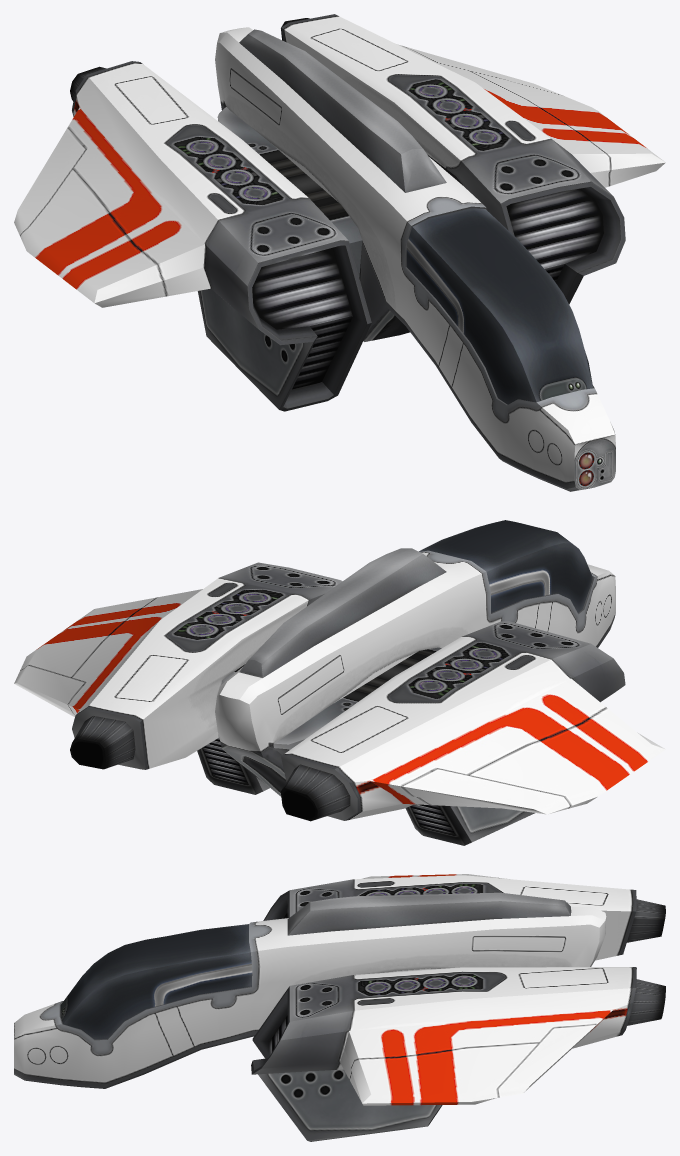
File: Jetpod_46_low.FBX
The picture shows the model from 3 angles, top to bottom: view 1: azimuth 30°, elevation 25°; view 2: azimuth 150°, elevation 25°; view 3: azimuth 270°, elevation 25°; orthographic projection. The views are drawn at different scales.
Visible parts, largest first — view 1: Jetpod_46; view 2: Jetpod_46; view 3: Jetpod_46.
Boxes of the visible parts, x1,y1,x2,y2 form: Jetpod_46: (14,14,665,491); Jetpod_46: (14,520,665,845); Jetpod_46: (14,874,665,1141).
Bounding box in the file's own units: 2.61 × 1.06 × 3.19.
